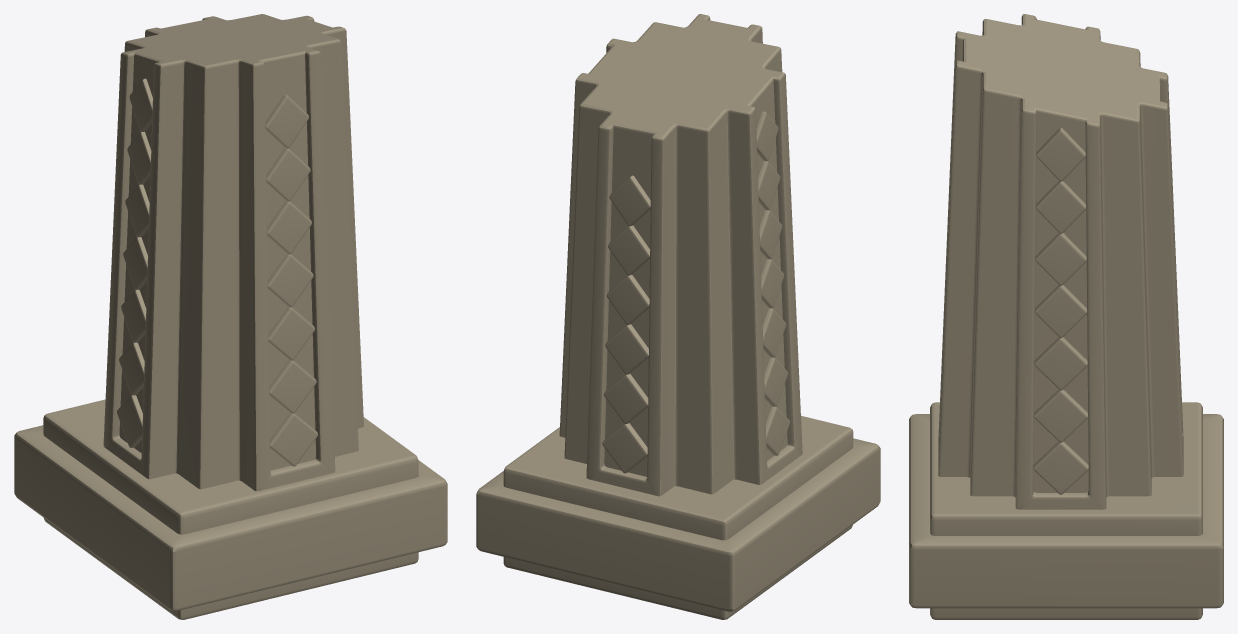
File: TemplePillarB_001.fbx
3 views of the same model, side by side, from view 1: azimuth 30°, elevation 25°; view 2: azimuth 150°, elevation 25°; view 3: azimuth 270°, elevation 25° (orthographic). The views are drawn at different scales.
Visible parts, largest first — view 1: TemplePillarB_001; view 2: TemplePillarB_001; view 3: TemplePillarB_001.
Boxes of the visible parts, <box> form: TemplePillarB_001: <box>14,14,447,619</box>; TemplePillarB_001: <box>476,14,880,619</box>; TemplePillarB_001: <box>909,14,1223,619</box>.
Bounding box in the file's own units: 1.16 × 2.1 × 1.16.
